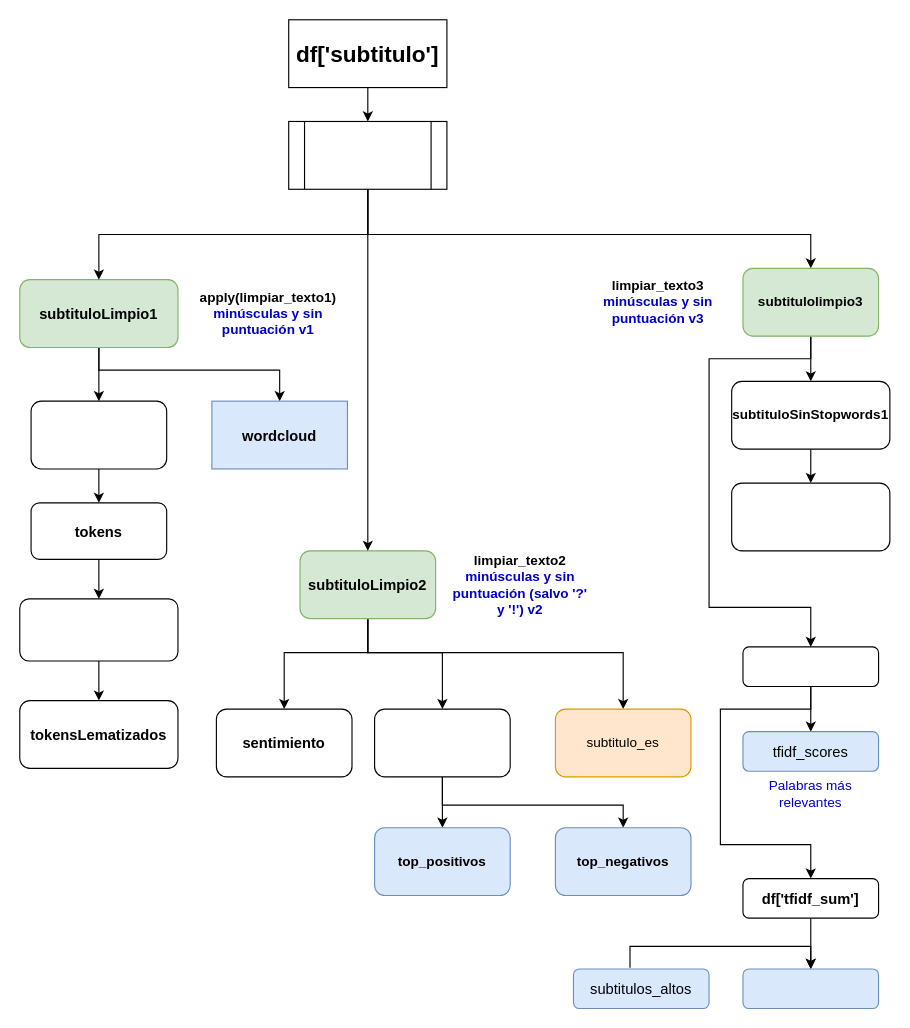
Some shapes in this 910 by 1028 pixel diagram are drawn without their labels. Here are the shapes that lost their labels. From the top down, the centre of each, then its label:
At [367,154]: "dropna(subtitulo)".
At [98,434]: "subtituloExp".
At [810,516]: "subtituloSinSW Lematizado1".
At [98,629]: "tokensSinStopwords".
At [810,666]: "tfidf_df".
At [441,742]: "sentimientoVader".
At [810,988]: "subtitulos_bajos".
